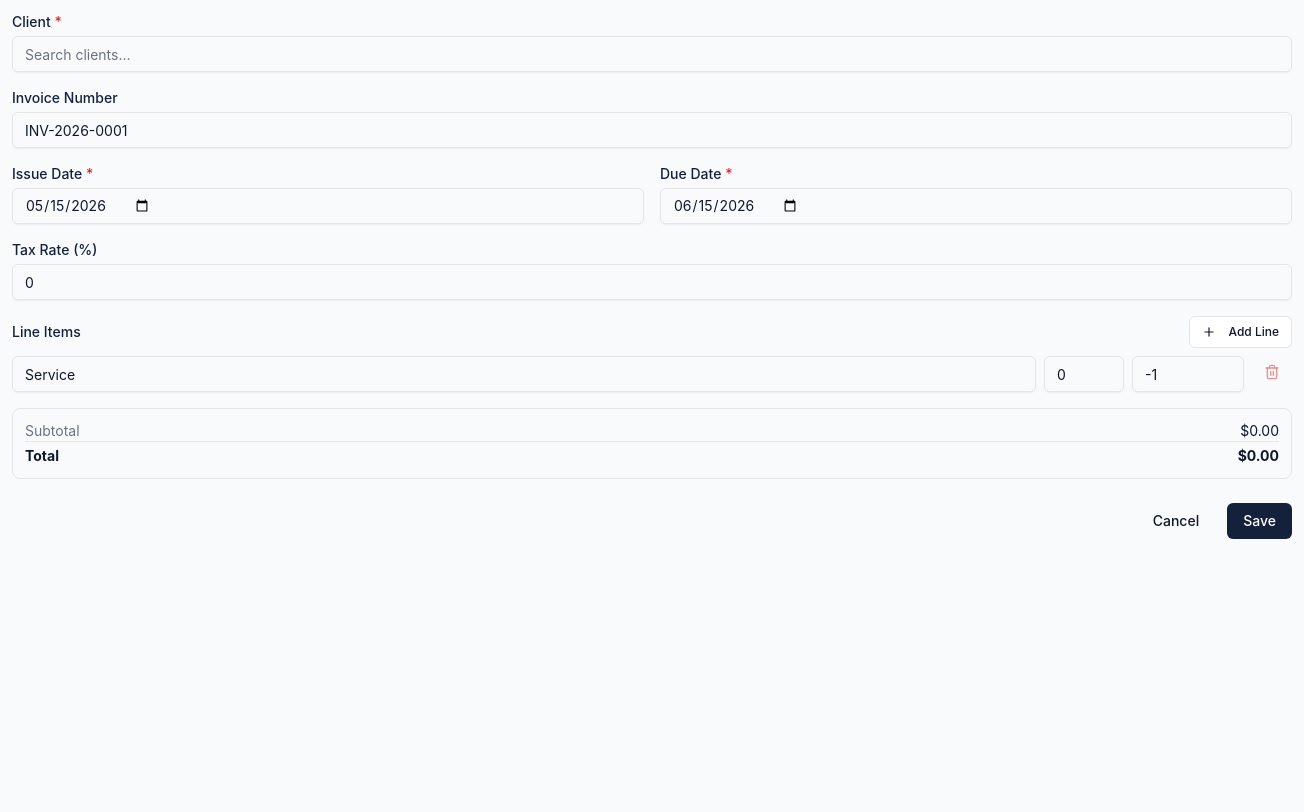
Scenario: InvoiceForm › shows line-level quantity and unit-price validation errors
Click the button with test id "btn-submit": (1260, 521) [1227,503,1292,539]
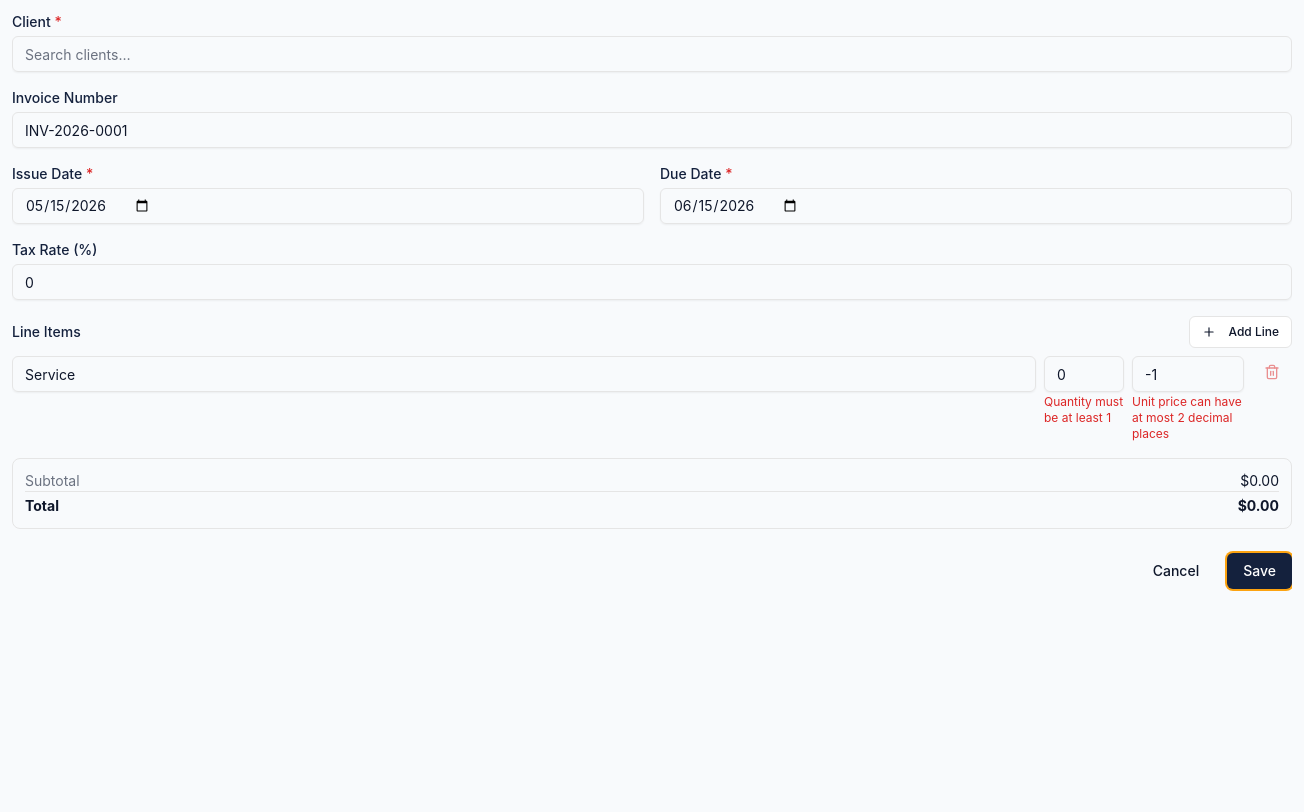
Expected: the message "Quantity must be at least 1" is shown, [1044,394,1124,426]
